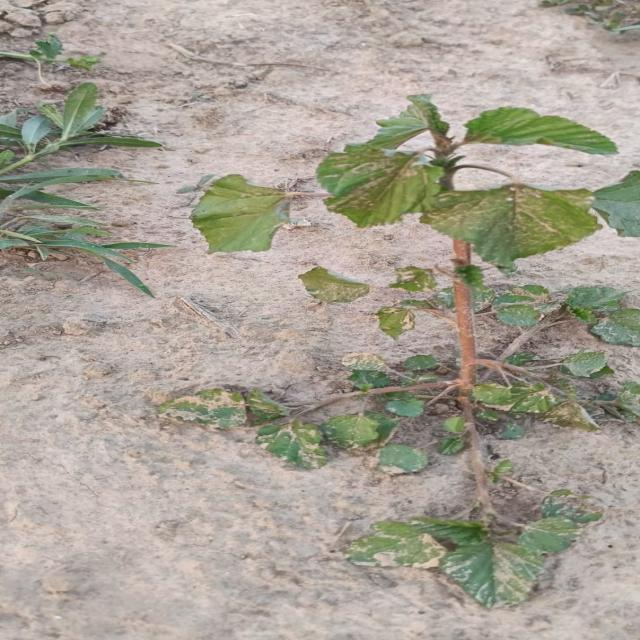weed: (300, 94, 640, 609), (159, 390, 395, 469), (189, 174, 302, 251)
